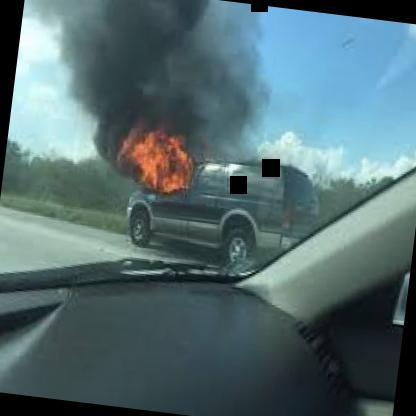fire: (110, 102, 204, 214)
